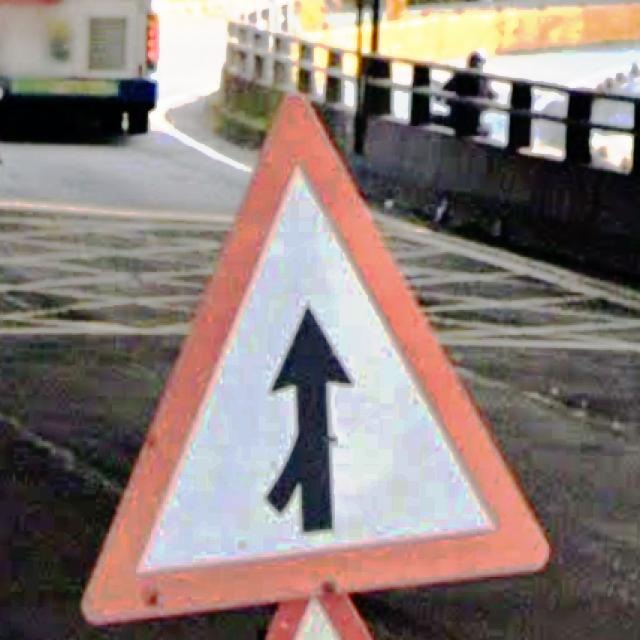leftmerge: (81, 95, 550, 627)
